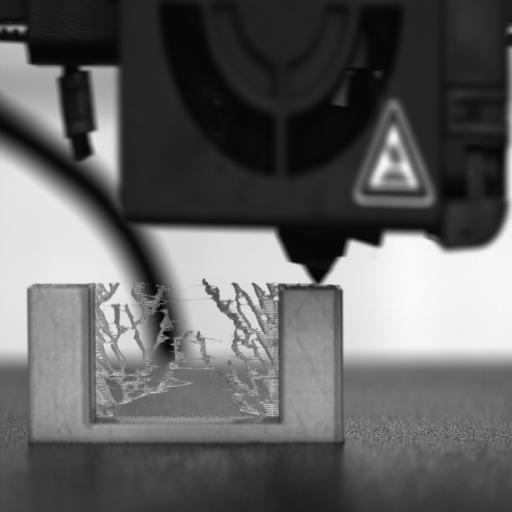spaghetti_and_stringing: (93, 281, 279, 415)
